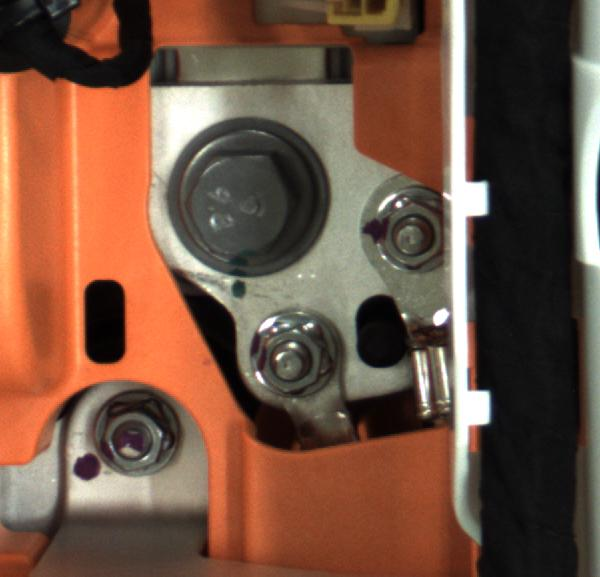nut_b: (155, 121, 321, 267)
screw_s: (241, 309, 354, 412), (361, 193, 469, 282), (93, 405, 188, 479)
